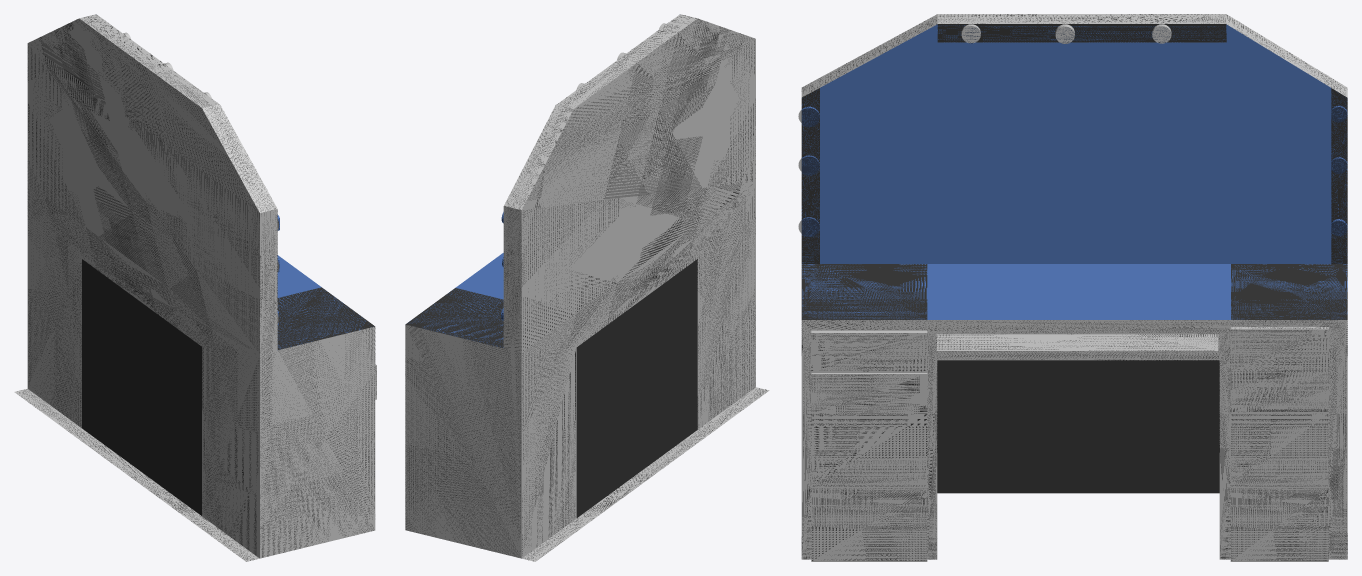
The picture shows the model from 3 angles, left to right: view 1: azimuth 30°, elevation 25°; view 2: azimuth 150°, elevation 25°; view 3: azimuth 270°, elevation 25°; orthographic projection. The views are drawn at different scales.
Visible parts, largest first — view 1: mesh1_mesh1-geometry; view 2: mesh1_mesh1-geometry; view 3: mesh1_mesh1-geometry.
Boxes of the visible parts, bbox=[...] form: mesh1_mesh1-geometry: bbox=[14, 14, 376, 561]; mesh1_mesh1-geometry: bbox=[405, 14, 769, 561]; mesh1_mesh1-geometry: bbox=[798, 14, 1347, 561].
Size of the model in its own units: 0.2331 by 0.6747 by 0.7003.
Materials: 5 (1 with a texture image).
